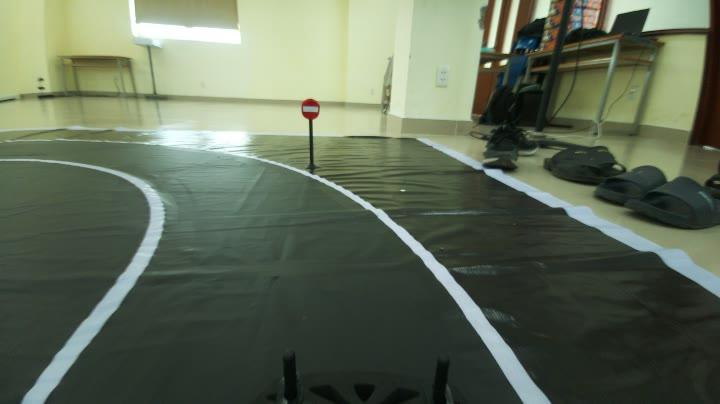no_entry: (290, 92, 331, 122)
